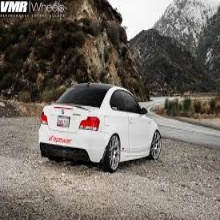no damage: (37, 82, 164, 171)
